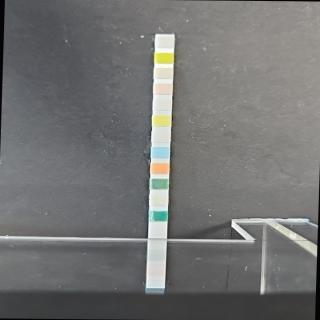mark: (155, 34, 174, 49), (149, 210, 167, 222), (151, 130, 169, 142), (152, 115, 170, 127), (154, 83, 172, 95), (155, 52, 173, 64), (151, 178, 168, 190), (151, 163, 168, 175), (155, 67, 172, 79), (150, 195, 167, 206), (151, 148, 168, 158), (154, 100, 171, 110)
